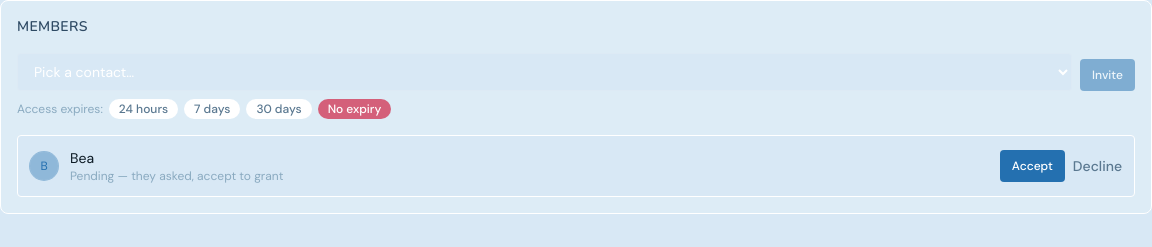
Scenario: MembersPanel › lets the owner accept a pending access request
Expected: the text "Pending — they asked, accept to grant" is shown, x1=70 y1=168 x2=283 y2=184
Step 1. Click the button "Accept" → {"x": 1032, "y": 166}, box x1=1000 y1=150 x2=1065 y2=182
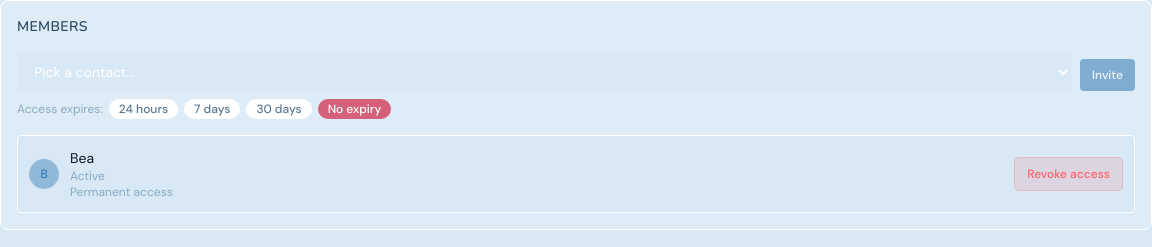
Expected: the text "Active" is shown, x1=70 y1=168 x2=105 y2=184
